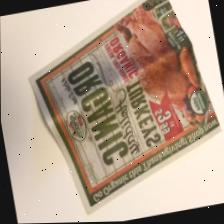paper: (17, 0, 224, 224)
